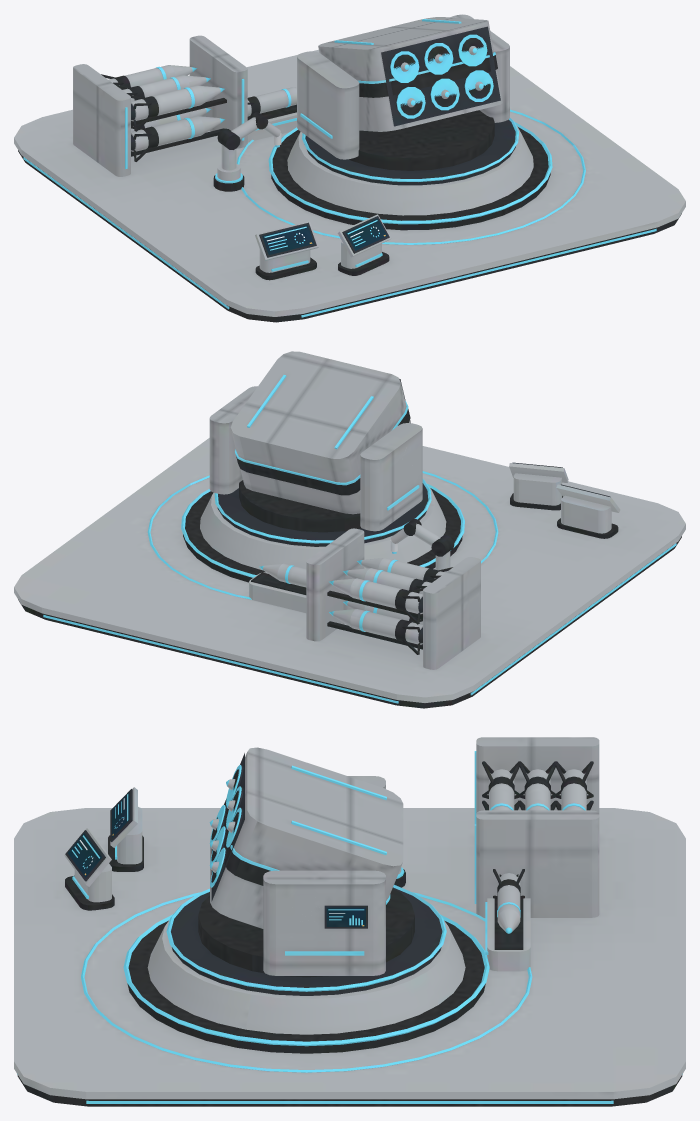
File: enterprise_rocket_launcher.glb
3 views of the same model, one above another, from view 1: azimuth 30°, elevation 25°; view 2: azimuth 150°, elevation 25°; view 3: azimuth 270°, elevation 25° (orthographic). The views are drawn at different scales.
Parts seen in each view (by area): view 1: te_enterprise_rocket_launcher, move_scope; view 2: te_enterprise_rocket_launcher, move_scope; view 3: te_enterprise_rocket_launcher, move_scope.
Boxes of the visible parts, box(x1,y1,x2,y2) form: te_enterprise_rocket_launcher: box(14, 35, 685, 322); move_scope: box(297, 14, 509, 170); te_enterprise_rocket_launcher: box(14, 438, 685, 708); move_scope: box(209, 351, 422, 532); te_enterprise_rocket_launcher: box(14, 737, 685, 1106); move_scope: box(198, 747, 414, 977).
Size of the model in its own units: 1.86 by 0.6498 by 1.86.
1 material, 1 textured.
